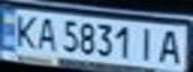1: (112, 22, 136, 60)
3: (93, 21, 115, 57)
5: (57, 18, 81, 54)
8: (75, 20, 96, 56)
A: (154, 27, 187, 65), (33, 15, 60, 52)
I: (133, 25, 160, 62)
K: (9, 11, 42, 50)
